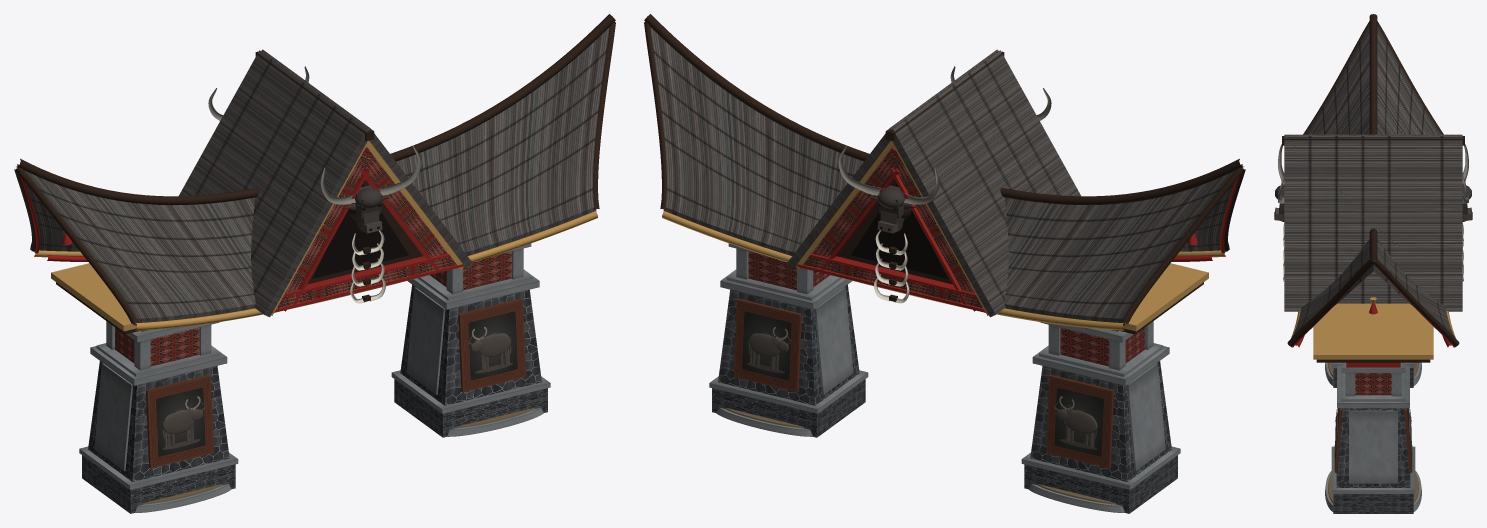
The model's file is gapura_toraja_3d.glb.
3 renders of one model, left to right at view 1: azimuth 30°, elevation 25°; view 2: azimuth 150°, elevation 25°; view 3: azimuth 270°, elevation 25°, orthographic. The views are drawn at different scales.
Parts seen in each view (by area): view 1: MainCurvedRoof, GableRoofLeft, PillarBody (×2), BuffaloReliefPlane (×2), PlinthStone (×2), CentralGableFront, ConcreteSideFrame (×2), RoofRidgeBeam, GableMotifSlope (×2), NeckMotifCore (×2), PlinthCap (×2), CorniceLower (×2) (+13 smaller); view 2: MainCurvedRoof, GableRoofLeft, PillarBody (×2), BuffaloReliefPlane (×2), PlinthStone (×2), CentralGableBack, ConcreteSideFrame (×2), RoofRidgeBeam, GableMotifSlope (×2), NeckMotifCore (×2), PlinthCap (×2), CorniceLower (×2) (+13 smaller); view 3: GableRoofRight, MainCurvedRoof, RoofFriezeBand, ConcreteSideFrame, ProwBargeboard (×4), PillarBody, PlinthStone, RoofRidgeBeam, PlinthCap, CorniceLower, NeckMotifCore, PillarRight (+8 smaller).
Part boxes in pixels (box(x1,y1,x2,y2)): MainCurvedRoof: box(17, 27, 609, 325); GableRoofLeft: box(179, 50, 369, 317); PillarBody (×2): box(88, 284, 541, 481); BuffaloReliefPlane (×2): box(150, 302, 523, 465); PlinthStone (×2): box(82, 379, 547, 513); CentralGableFront: box(273, 168, 464, 312); ConcreteSideFrame (×2): box(94, 287, 445, 470); RoofRidgeBeam: box(16, 14, 615, 205); GableMotifSlope (×2): box(284, 147, 447, 311); NeckMotifCore (×2): box(115, 251, 511, 366); PlinthCap (×2): box(79, 370, 550, 489); CorniceLower (×2): box(90, 269, 539, 385); MainCurvedRoof: box(650, 27, 1242, 325); GableRoofLeft: box(890, 50, 1080, 317); PillarBody (×2): box(718, 284, 1171, 481); BuffaloReliefPlane (×2): box(736, 302, 1109, 465); PlinthStone (×2): box(712, 379, 1177, 513); CentralGableBack: box(796, 168, 985, 312); ConcreteSideFrame (×2): box(814, 287, 1165, 470); RoofRidgeBeam: box(644, 14, 1243, 205); GableMotifSlope (×2): box(812, 147, 975, 311); NeckMotifCore (×2): box(748, 251, 1144, 366); PlinthCap (×2): box(709, 370, 1180, 489); CorniceLower (×2): box(720, 269, 1169, 385); GableRoofRight: box(1284, 136, 1462, 311); MainCurvedRoof: box(1292, 26, 1454, 336); RoofFriezeBand: box(1313, 303, 1433, 359); ConcreteSideFrame: box(1349, 410, 1397, 483); ProwBargeboard (×4): box(1287, 21, 1459, 346); PillarBody: box(1336, 408, 1410, 487); PlinthStone: box(1333, 494, 1413, 513); RoofRidgeBeam: box(1369, 14, 1377, 260); PlinthCap: box(1331, 446, 1415, 493); CorniceLower: box(1337, 365, 1409, 408); NeckMotifCore: box(1355, 373, 1391, 395); PillarRight: box(1328, 362, 1418, 502).
Size of the model in its own units: 13.85 by 7.91 by 4.79.
Materials: 26 (9 with a texture image).
